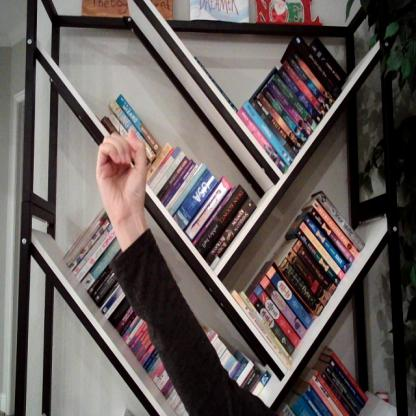zero: (93, 126, 149, 218)
